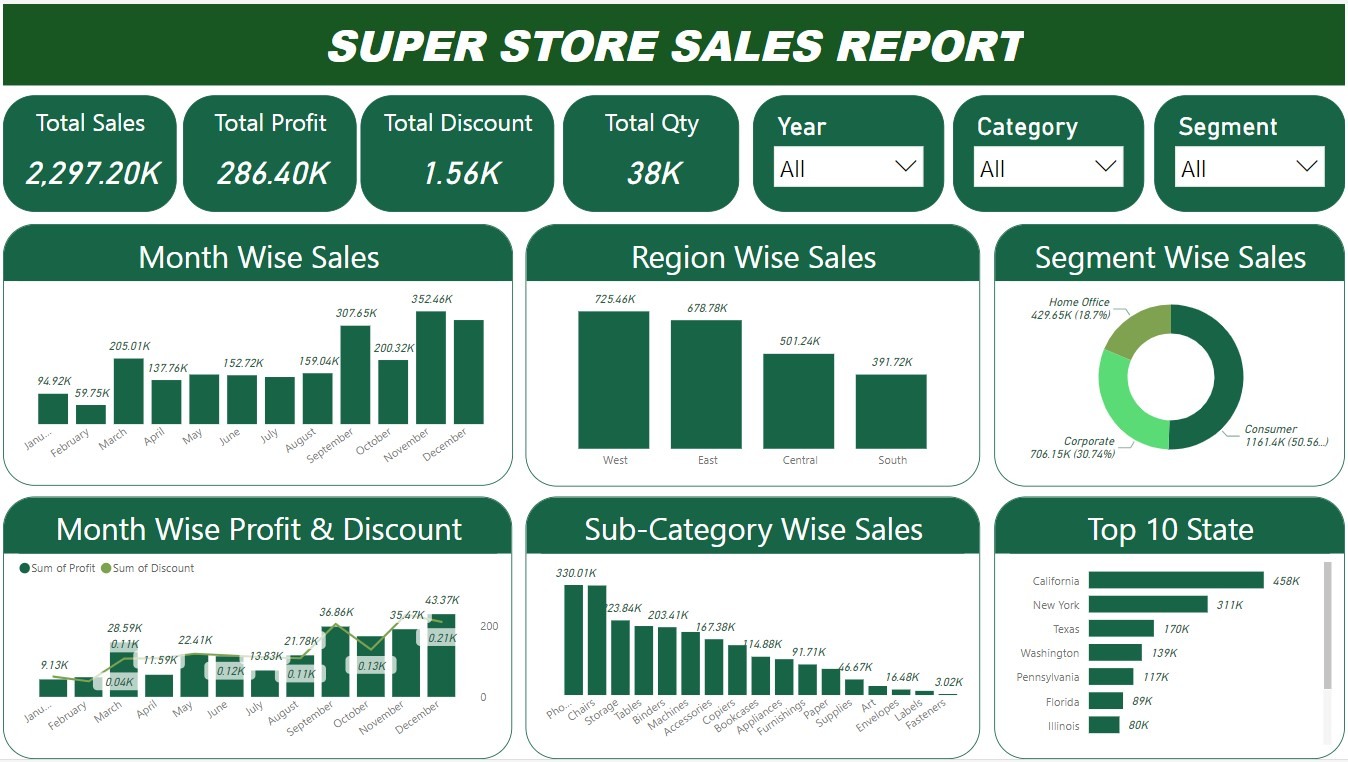

The page's visual inventory and layout, read from the dashboard file:
{"tool":"powerbi","page":{"name":"Sales Dashboard","canvas":[1280,720],"ordinal":0},"visuals":[{"type":"shape","box":[0,0,1280.5,77.4],"z":0},{"type":"card","title":"Total Sales","fields":{"Values":["Sum(Orders.Sales)"]},"box":[0,86.8,165.2,111],"z":1000},{"type":"card","title":"Total Qty","fields":{"Values":["Sum(Orders.Quantity)"]},"box":[534.3,86.8,167.6,111],"z":2000},{"type":"card","title":"Total Profit","fields":{"Values":["Sum(Orders.Profit)"]},"box":[171.3,86.8,165.2,111],"z":3000},{"type":"card","title":"Total Discount","fields":{"Values":["Sum(Orders.Discount)"]},"box":[341.3,86.8,184.5,111],"z":4000},{"type":"clusteredColumnChart","title":"Month Wise Sales","fields":{"Y":["Sum(Orders.Sales)"],"Category":["Orders.Order Date.Variation.Date Hierarchy.Month"]},"box":[0,209.8,486,249.6],"z":5000},{"type":"clusteredColumnChart","title":"Region Wise Sales","fields":{"Y":["Sum(Orders.Sales)"],"Category":["Orders.Region"]},"box":[497.9,209.6,433.6,250.1],"z":6000},{"type":"donutChart","title":"Segment Wise Sales","fields":{"Category":["Orders.Segment"],"Y":["Sum(Orders.Sales)"]},"box":[945.8,209.6,334.7,250.1],"z":7000},{"type":"barChart","title":"Top 10 State","fields":{"Y":["Sum(Orders.Sales)"],"Category":["Orders.State"]},"box":[945.8,469.3,334.7,250.1],"z":8000},{"type":"clusteredColumnChart","title":"Sub-Category Wise Sales","fields":{"Y":["Sum(Orders.Sales)"],"Category":["Orders.Sub-Category"]},"box":[497.9,469.3,433.6,250.1],"z":9000},{"type":"lineClusteredColumnComboChart","title":"Month Wise Profit & Discount","fields":{"Category":["Orders.Order Date.Variation.Date Hierarchy.Month"],"Y2":["Sum(Orders.Discount)"],"Y":["Sum(Orders.Profit)"]},"box":[0,469.3,486,250.1],"z":10000},{"type":"slicer","fields":{"Values":["Orders.Segment"]},"box":[1097.5,86.8,182.1,111],"z":11000},{"type":"slicer","fields":{"Values":["Orders.Order Date.Variation.Date Hierarchy.Year"]},"box":[715.2,86.8,182.1,111],"z":12000},{"type":"slicer","fields":{"Values":["Orders.Category"]},"box":[905.7,86.8,182.1,111],"z":13000},{"type":"actionButton","box":[0,0,100,40],"z":14000}]}

Visuals, with their boxes in screenshot pixels (x1, y1, x2, y2), scaled from the page's 1280x720 canvas onto the 1348x762 screenshot:
shape: locate(0, 0, 1347, 82)
"Total Sales" card: locate(0, 92, 174, 209)
"Total Qty" card: locate(563, 92, 739, 209)
"Total Profit" card: locate(180, 92, 354, 209)
"Total Discount" card: locate(359, 92, 554, 209)
"Month Wise Sales" clusteredColumnChart: locate(0, 222, 512, 486)
"Region Wise Sales" clusteredColumnChart: locate(524, 222, 981, 487)
"Segment Wise Sales" donutChart: locate(996, 222, 1347, 487)
"Top 10 State" barChart: locate(996, 497, 1347, 761)
"Sub-Category Wise Sales" clusteredColumnChart: locate(524, 497, 981, 761)
"Month Wise Profit & Discount" lineClusteredColumnComboChart: locate(0, 497, 512, 761)
slicer - Orders.Segment: locate(1156, 92, 1347, 209)
slicer - Orders.Order Date.Variation.Date Hierarchy.Year: locate(753, 92, 945, 209)
slicer - Orders.Category: locate(954, 92, 1146, 209)
actionButton: locate(0, 0, 105, 42)
